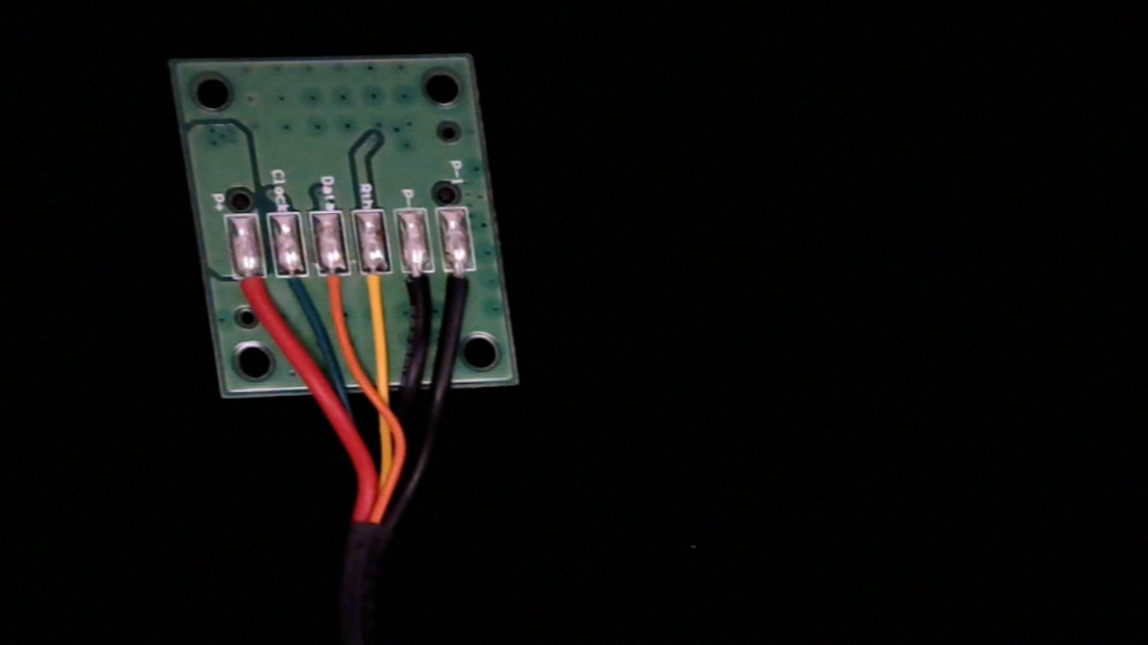Black: (402, 259, 440, 327)
Black1: (444, 256, 486, 323)
Green: (274, 261, 314, 318)
Orange: (316, 258, 356, 317)
Red: (233, 262, 274, 322)
Yellow: (359, 257, 396, 321)
